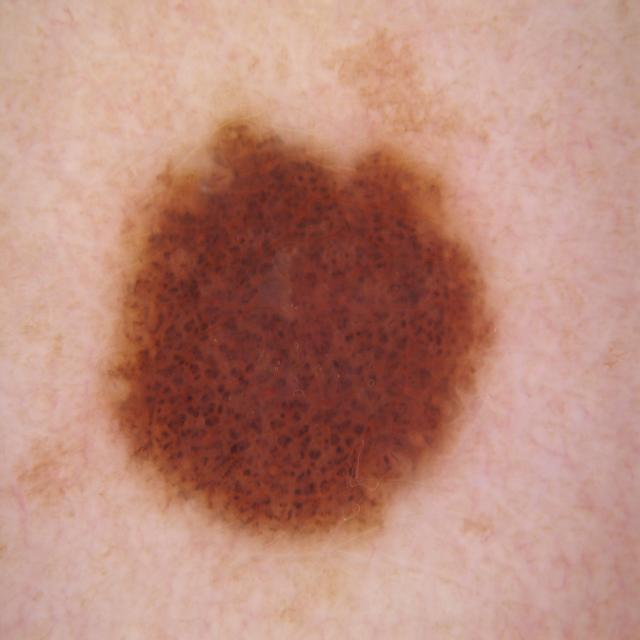Skin-Cancer Nevus: (17, 42, 640, 636), (561, 409, 561, 411)
